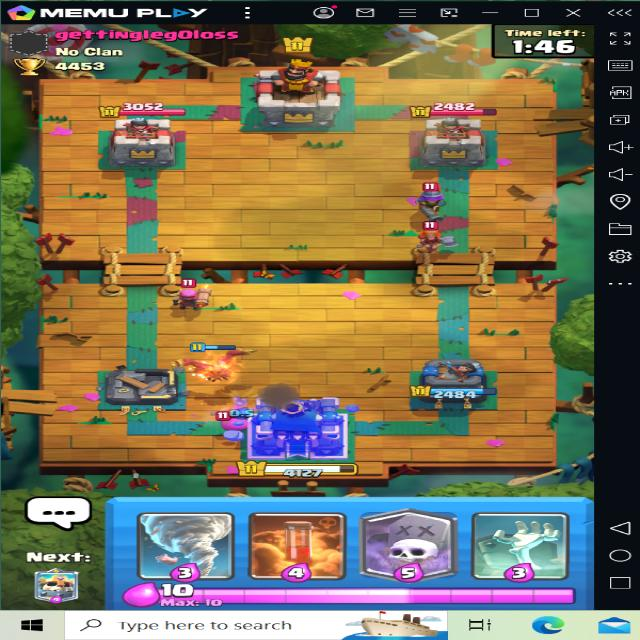Egolem: (210, 406, 255, 437)
Firecracker: (170, 272, 220, 317)
Musketeer: (408, 177, 463, 221)
Valk: (411, 222, 464, 261)
